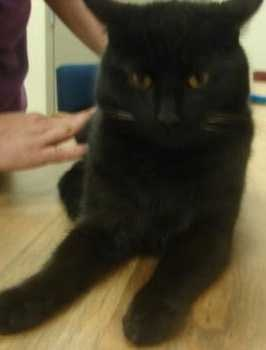Cat: (2, 0, 262, 345)
